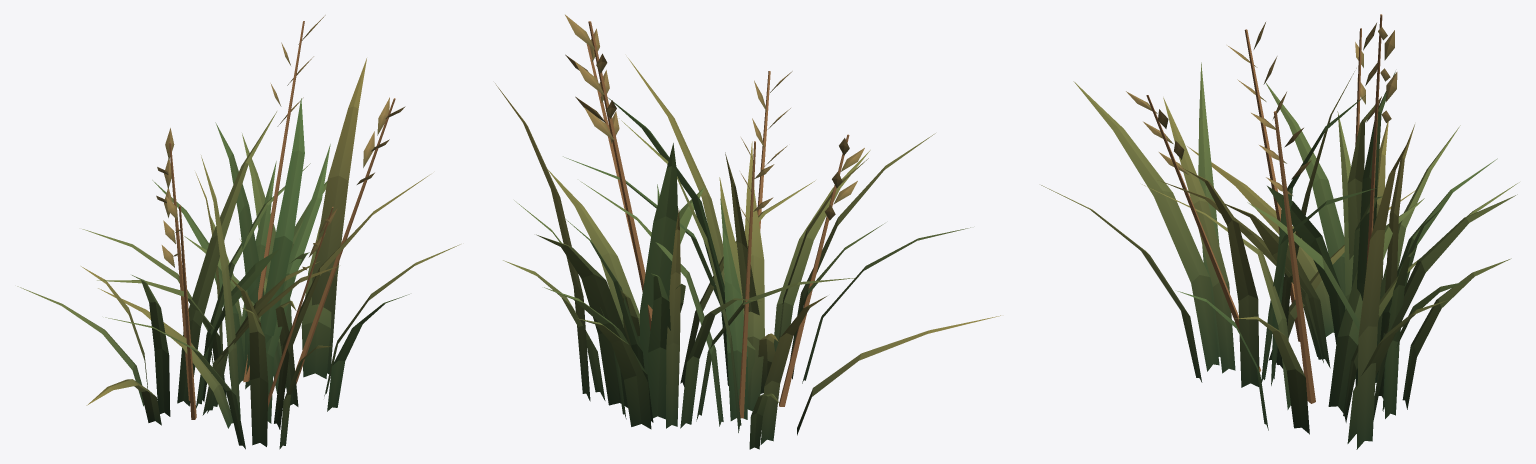
Rendered from seed_grass.glb.
The picture shows the model from 3 angles, left to right: view 1: azimuth 30°, elevation 25°; view 2: azimuth 150°, elevation 25°; view 3: azimuth 270°, elevation 25°; orthographic projection. The views are drawn at different scales.
Visible parts, largest first — view 1: seed_grass.394; view 2: seed_grass.394; view 3: seed_grass.394.
Part boxes in pixels (<box>): seed_grass.394: <box>17,15,460,449</box>; seed_grass.394: <box>495,14,1000,449</box>; seed_grass.394: <box>1041,14,1519,449</box>.
Bounding box in the file's own units: 0.9043 × 0.7632 × 0.7898.
